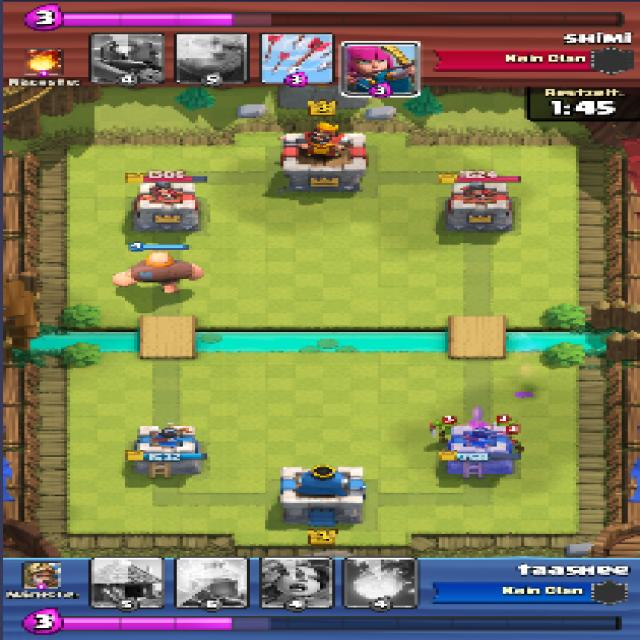Enemy-Goblin: (430, 419, 460, 439), (499, 433, 527, 451), (489, 419, 513, 434)
Player-Giant: (109, 252, 203, 292)
